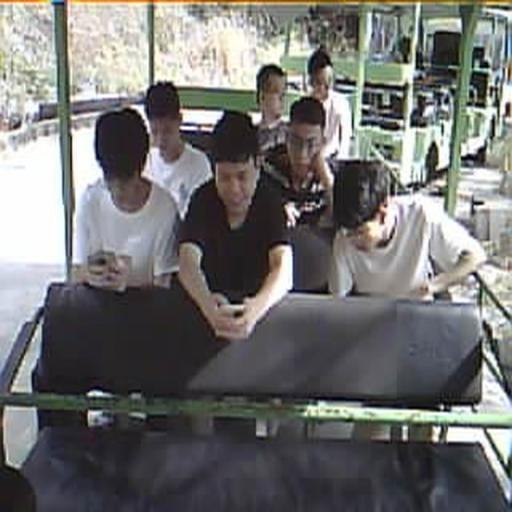persona: (177, 109, 294, 343), (328, 156, 487, 300), (74, 106, 180, 291), (258, 96, 335, 233), (140, 80, 214, 220), (306, 48, 352, 160), (250, 63, 291, 159)
